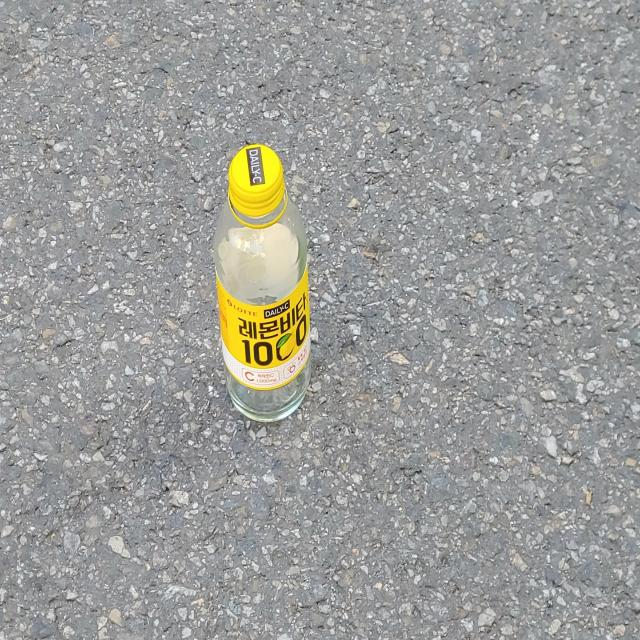glass: (214, 143, 311, 422)
